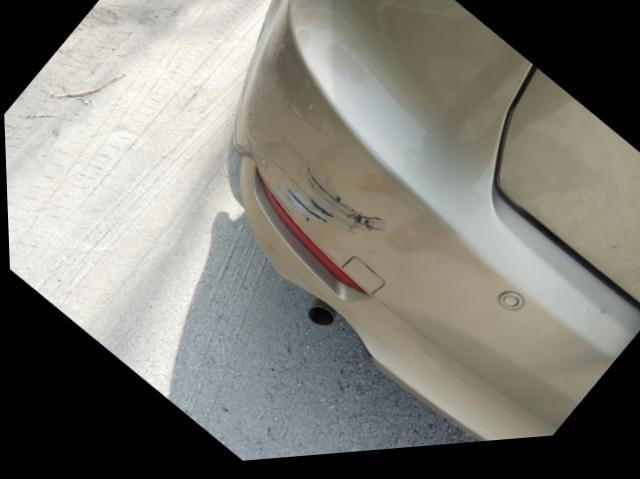scratch: (256, 156, 388, 240)
